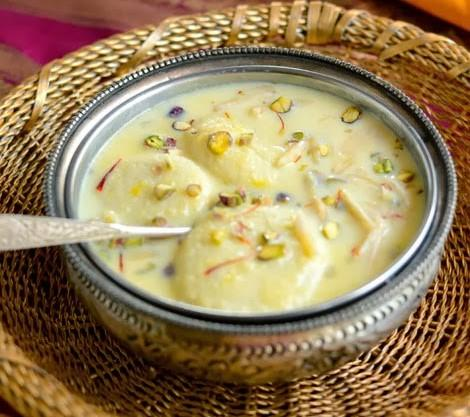RasMalai: (81, 83, 429, 310)
